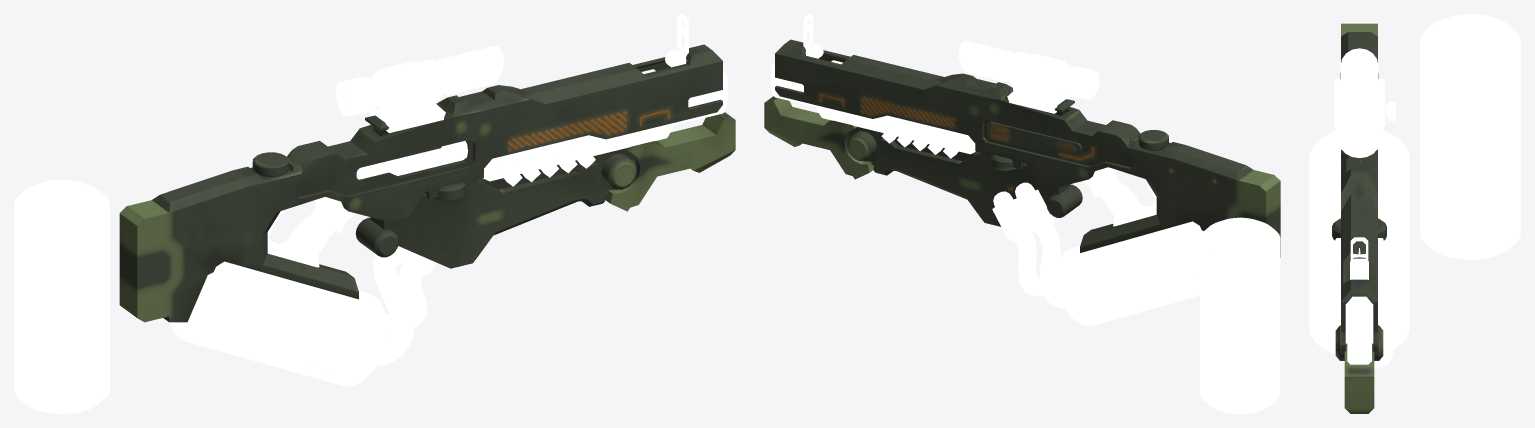
The model's file is Mid_Chatter.glb.
The picture shows the model from 3 angles, left to right: view 1: azimuth 30°, elevation 25°; view 2: azimuth 150°, elevation 25°; view 3: azimuth 270°, elevation 25°; orthographic projection. The views are drawn at different scales.
Visible parts, largest first — view 1: Cube.012_MainBody_0, Cube.012_Handle_0, Cube.012_Scope_0, Cube.012_Inter_0; view 2: Cube.012_MainBody_0, Cube.012_Handle_0, Cube.012_Scope_0, Cube.012_Inter_0; view 3: Cube.012_Handle_0, Cube.012_MainBody_0, Cube.012_Scope_0, Cube.012_Inter_0.
Part boxes in pixels (left/top/right/bottom): Cube.012_MainBody_0: left=119, top=44, right=735, bottom=322; Cube.012_Handle_0: left=14, top=179, right=435, bottom=413; Cube.012_Scope_0: left=335, top=46, right=503, bottom=132; Cube.012_Inter_0: left=356, top=14, right=727, bottom=186; Cube.012_MainBody_0: left=764, top=39, right=1280, bottom=257; Cube.012_Handle_0: left=992, top=167, right=1280, bottom=413; Cube.012_Scope_0: left=958, top=40, right=1099, bottom=113; Cube.012_Inter_0: left=771, top=14, right=975, bottom=158; Cube.012_Handle_0: left=1309, top=14, right=1520, bottom=367; Cube.012_MainBody_0: left=1332, top=23, right=1386, bottom=413; Cube.012_Scope_0: left=1334, top=48, right=1395, bottom=157; Cube.012_Inter_0: left=1311, top=159, right=1383, bottom=364.
Bounding box in the file's own units: 5.05 × 2.21 × 1.35.
Materials: 4 (4 with a texture image).
